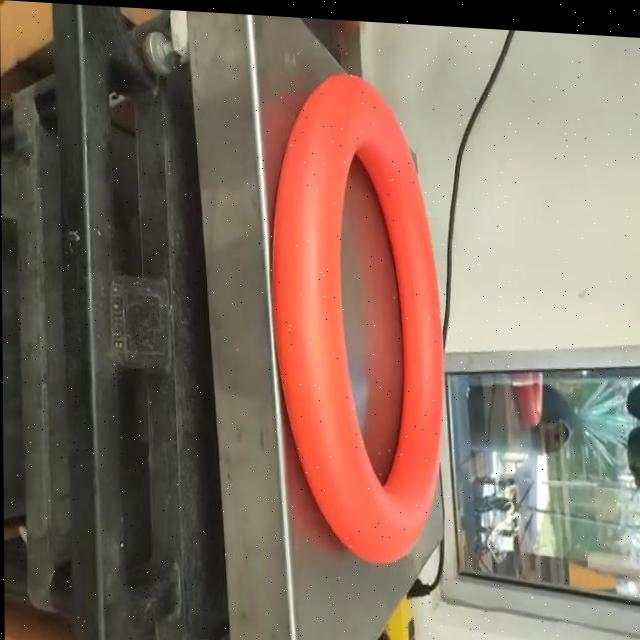note: (269, 61, 448, 563)
